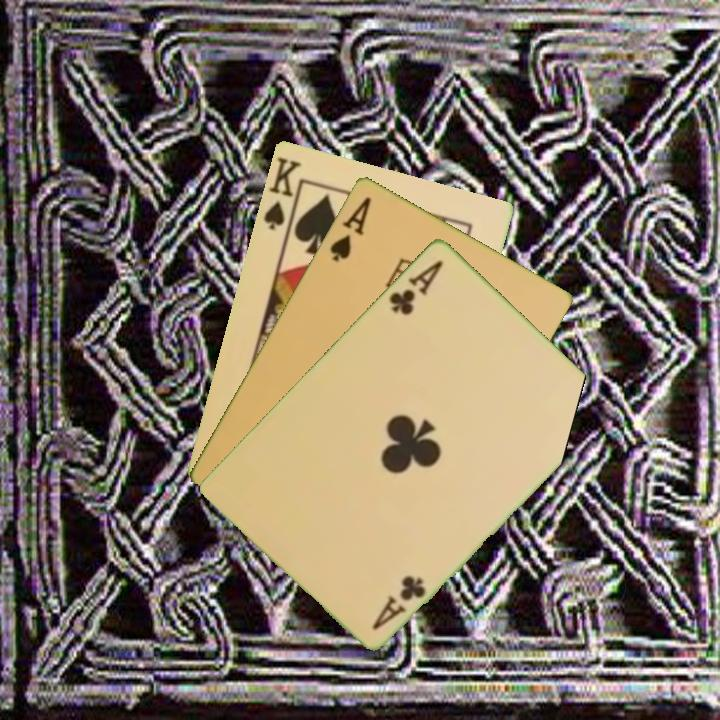Ac: (385, 255, 447, 318), (368, 571, 429, 633)
As: (326, 192, 374, 264)
Ks: (259, 153, 305, 238)
